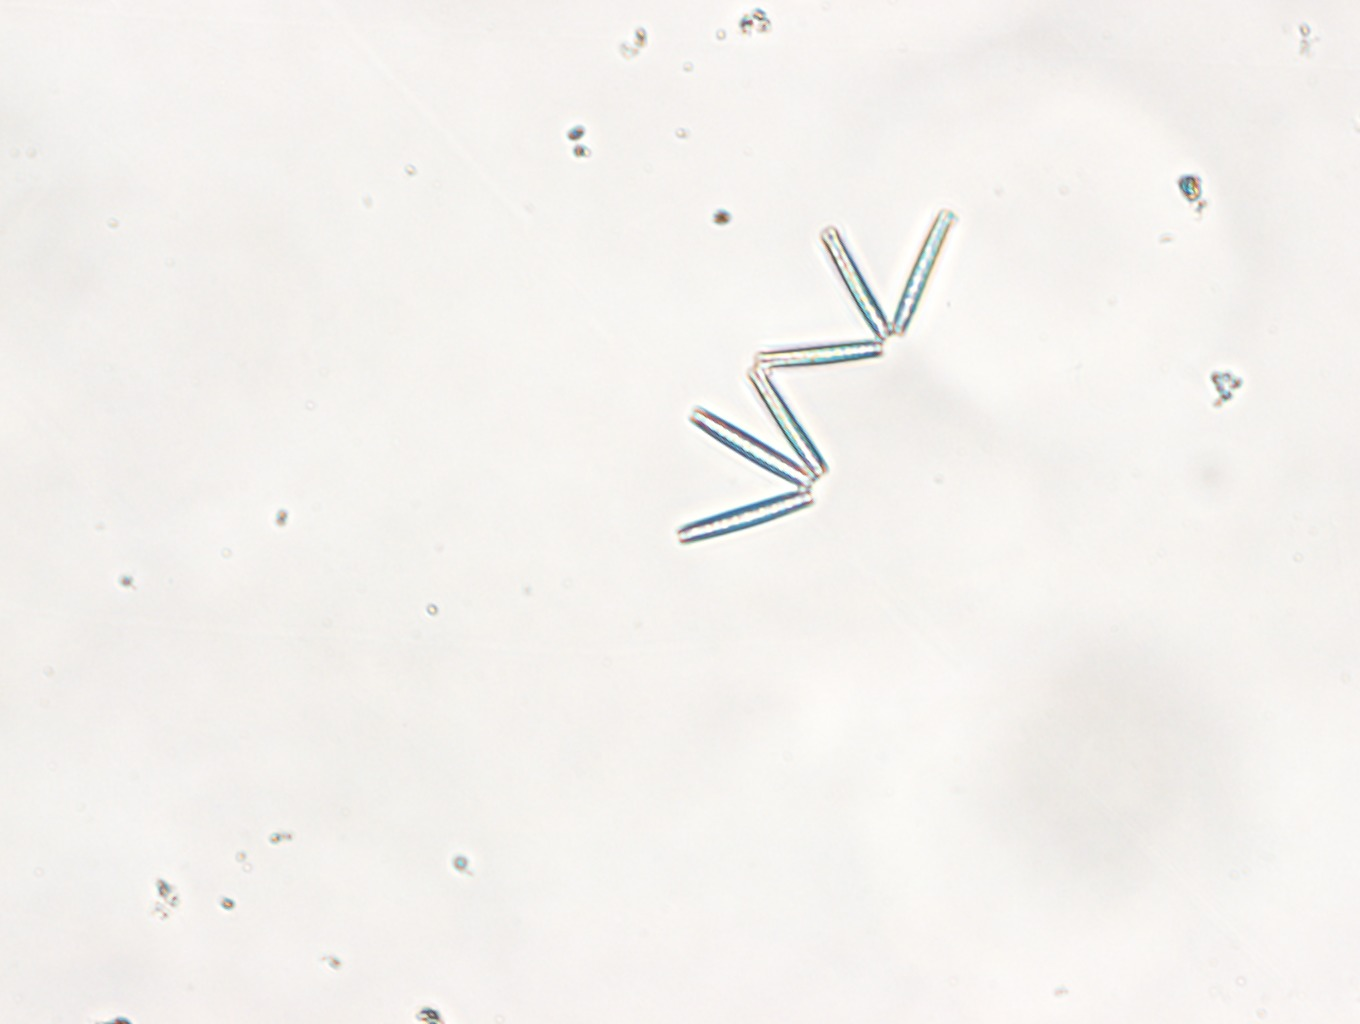thalassionema nitzschioides: (675, 210, 955, 547)
